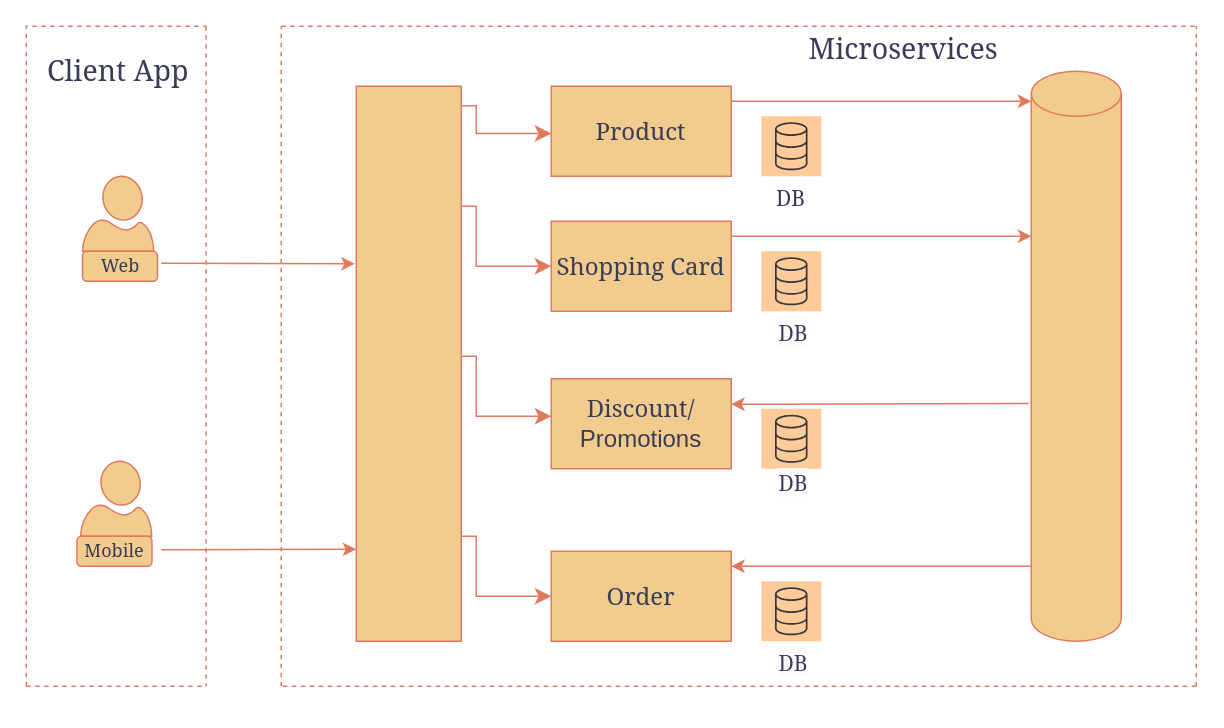
Image size: 1224x728. Some labels were removed from this diagram. Each missing label, with the centre of its shape:
"API Gateway" belongs at pixel 408 363.
"Message Broker" belongs at pixel 1075 355.
